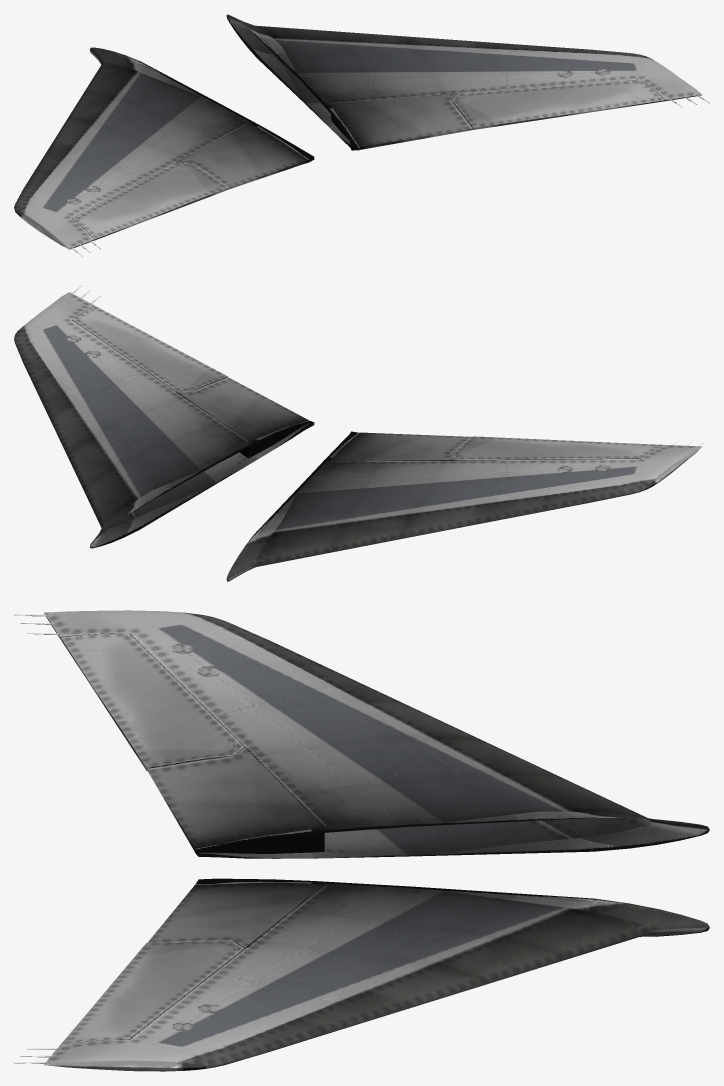
3 views of the same model, one above another, from view 1: azimuth 30°, elevation 25°; view 2: azimuth 150°, elevation 25°; view 3: azimuth 270°, elevation 25° (orthographic). The views are drawn at different scales.
Parts seen in each view (by area): view 1: g2_Default_LOD, g3_ANIMATION, g4_ANIMATION; view 2: g2_Default_LOD, g3_ANIMATION, g4_ANIMATION; view 3: g2_Default_LOD, g4_ANIMATION, g3_ANIMATION.
Boxes of the visible parts, x1,y1,x2,y2 form: g2_Default_LOD: (14,14,709,256); g3_ANIMATION: (330,79,665,149); g4_ANIMATION: (72,124,308,240); g2_Default_LOD: (14,285,709,581); g3_ANIMATION: (72,305,307,458); g4_ANIMATION: (330,432,665,461); g2_Default_LOD: (14,610,709,1071); g4_ANIMATION: (60,633,324,852); g3_ANIMATION: (60,882,323,1045).
Bounding box in the file's own units: 20.89 × 1.28 × 13.54.
Materials: 1 (1 with a texture image).
